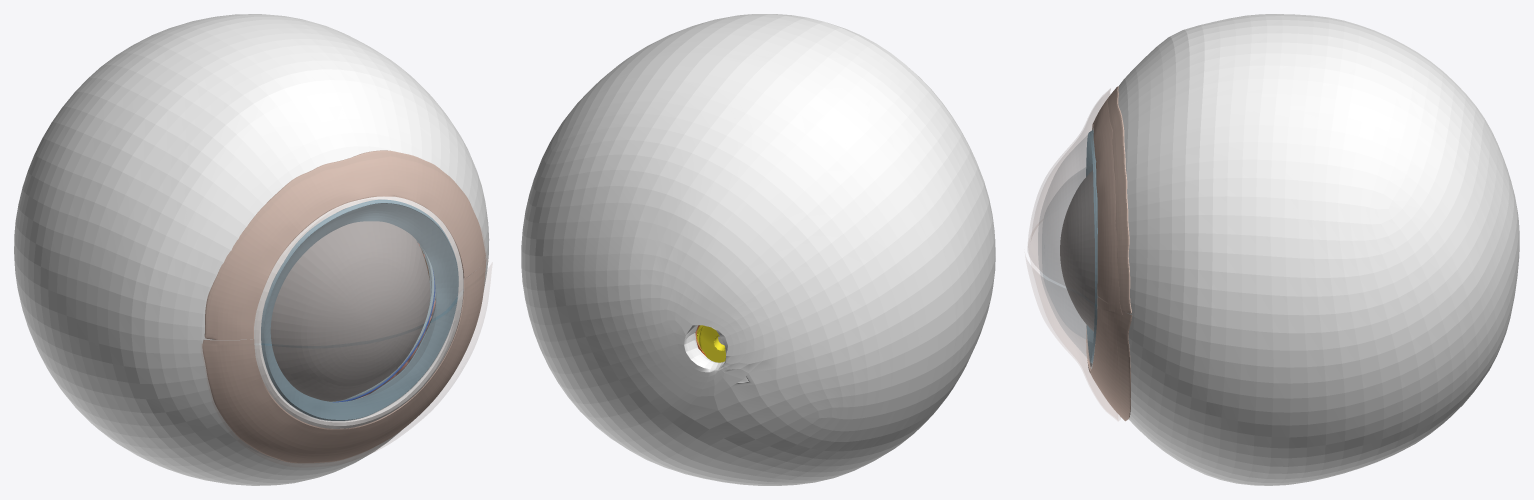
File: hra-eye-male-left.glb
3 views of the same model, side by side, from view 1: azimuth 30°, elevation 25°; view 2: azimuth 150°, elevation 25°; view 3: azimuth 270°, elevation 25° (orthographic).
Parts seen in each view (by area): view 1: VH_M_sclera_L, VH_M_palpebral_conjunctiva_of_upper_eyelid_L, VH_M_cornea_L, VH_M_bulbar_conjunctiva_L, VH_M_palpebral_conjunctiva_of_lower_eyelid_L, VH_M_aqueous_humor_L, VH_M_corneo_scleral_junction_L, VH_M_trabecular_meshwork_L; view 2: VH_M_sclera_L, VH_M_optic_disc_L; view 3: VH_M_sclera_L, VH_M_palpebral_conjunctiva_of_upper_eyelid_L, VH_M_bulbar_conjunctiva_L, VH_M_cornea_L, VH_M_palpebral_conjunctiva_of_lower_eyelid_L, VH_M_aqueous_humor_L, VH_M_corneo_scleral_junction_L.
Boxes of the visible parts, left/top/right/bottom form: VH_M_sclera_L: left=14, top=14, right=489, bottom=485; VH_M_palpebral_conjunctiva_of_upper_eyelid_L: left=204, top=156, right=488, bottom=345; VH_M_cornea_L: left=261, top=201, right=458, bottom=420; VH_M_bulbar_conjunctiva_L: left=202, top=150, right=486, bottom=463; VH_M_palpebral_conjunctiva_of_lower_eyelid_L: left=201, top=264, right=491, bottom=466; VH_M_aqueous_humor_L: left=270, top=221, right=430, bottom=401; VH_M_corneo_scleral_junction_L: left=261, top=199, right=458, bottom=420; VH_M_trabecular_meshwork_L: left=326, top=240, right=435, bottom=401; VH_M_sclera_L: left=521, top=14, right=995, bottom=485; VH_M_optic_disc_L: left=699, top=325, right=725, bottom=362; VH_M_sclera_L: left=1089, top=14, right=1519, bottom=485; VH_M_palpebral_conjunctiva_of_upper_eyelid_L: left=1028, top=89, right=1121, bottom=314; VH_M_bulbar_conjunctiva_L: left=1086, top=86, right=1132, bottom=421; VH_M_cornea_L: left=1038, top=131, right=1096, bottom=362; VH_M_palpebral_conjunctiva_of_lower_eyelid_L: left=1026, top=228, right=1120, bottom=420; VH_M_aqueous_humor_L: left=1060, top=170, right=1094, bottom=331; VH_M_corneo_scleral_junction_L: left=1086, top=130, right=1097, bottom=363.
Bounding box in the file's own units: 0.0245 × 0.0244 × 0.0257.
